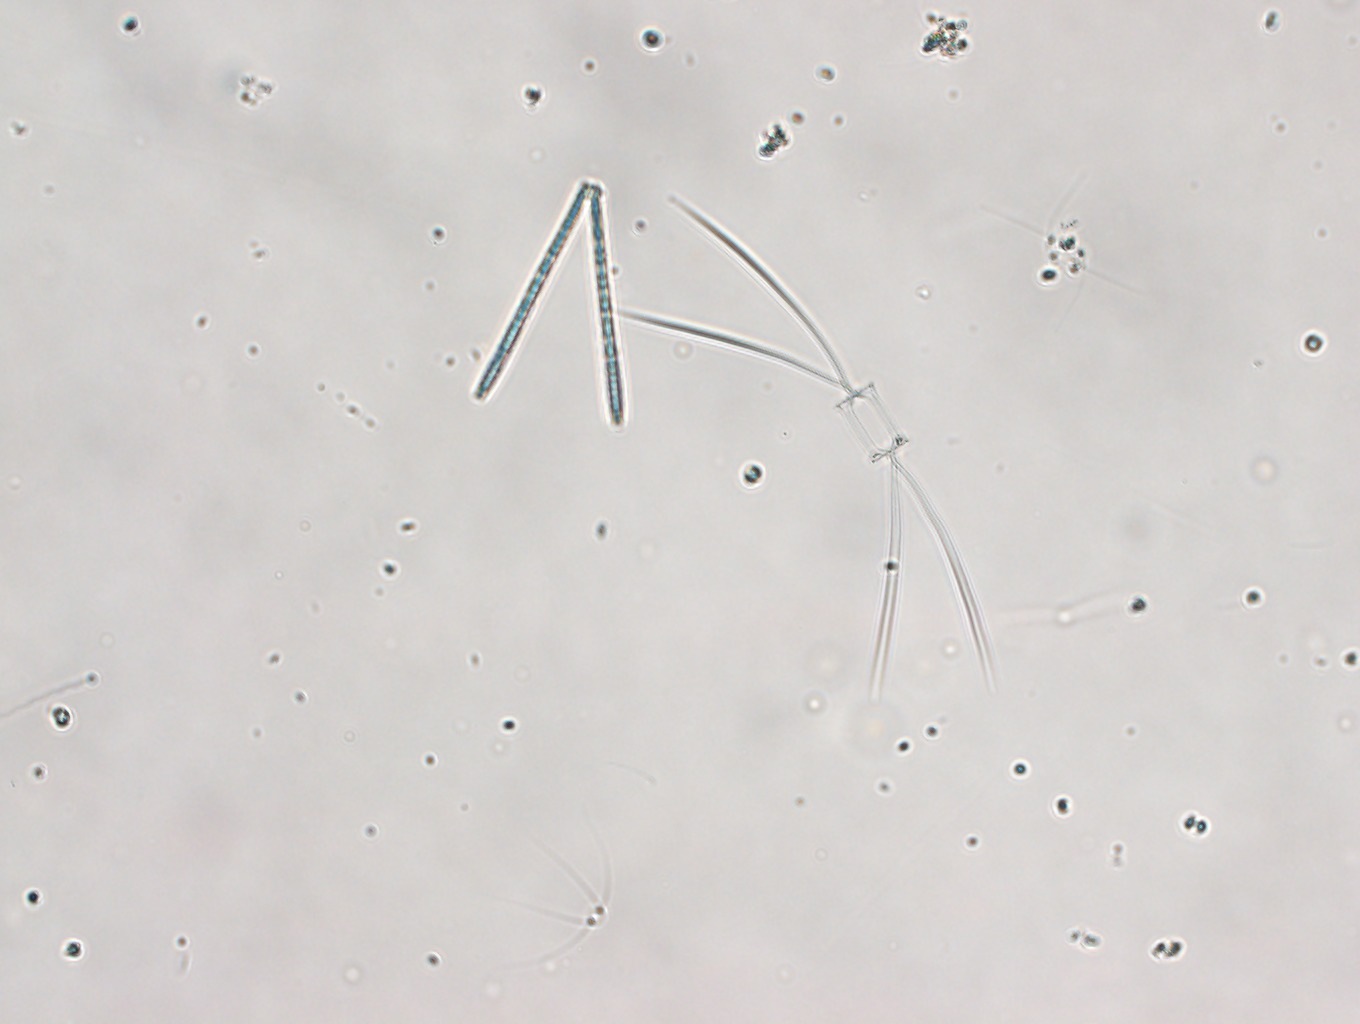chaetoceros: (606, 186, 998, 705), (967, 159, 1158, 340)
thalassionema nitzschioides: (469, 163, 631, 424)
